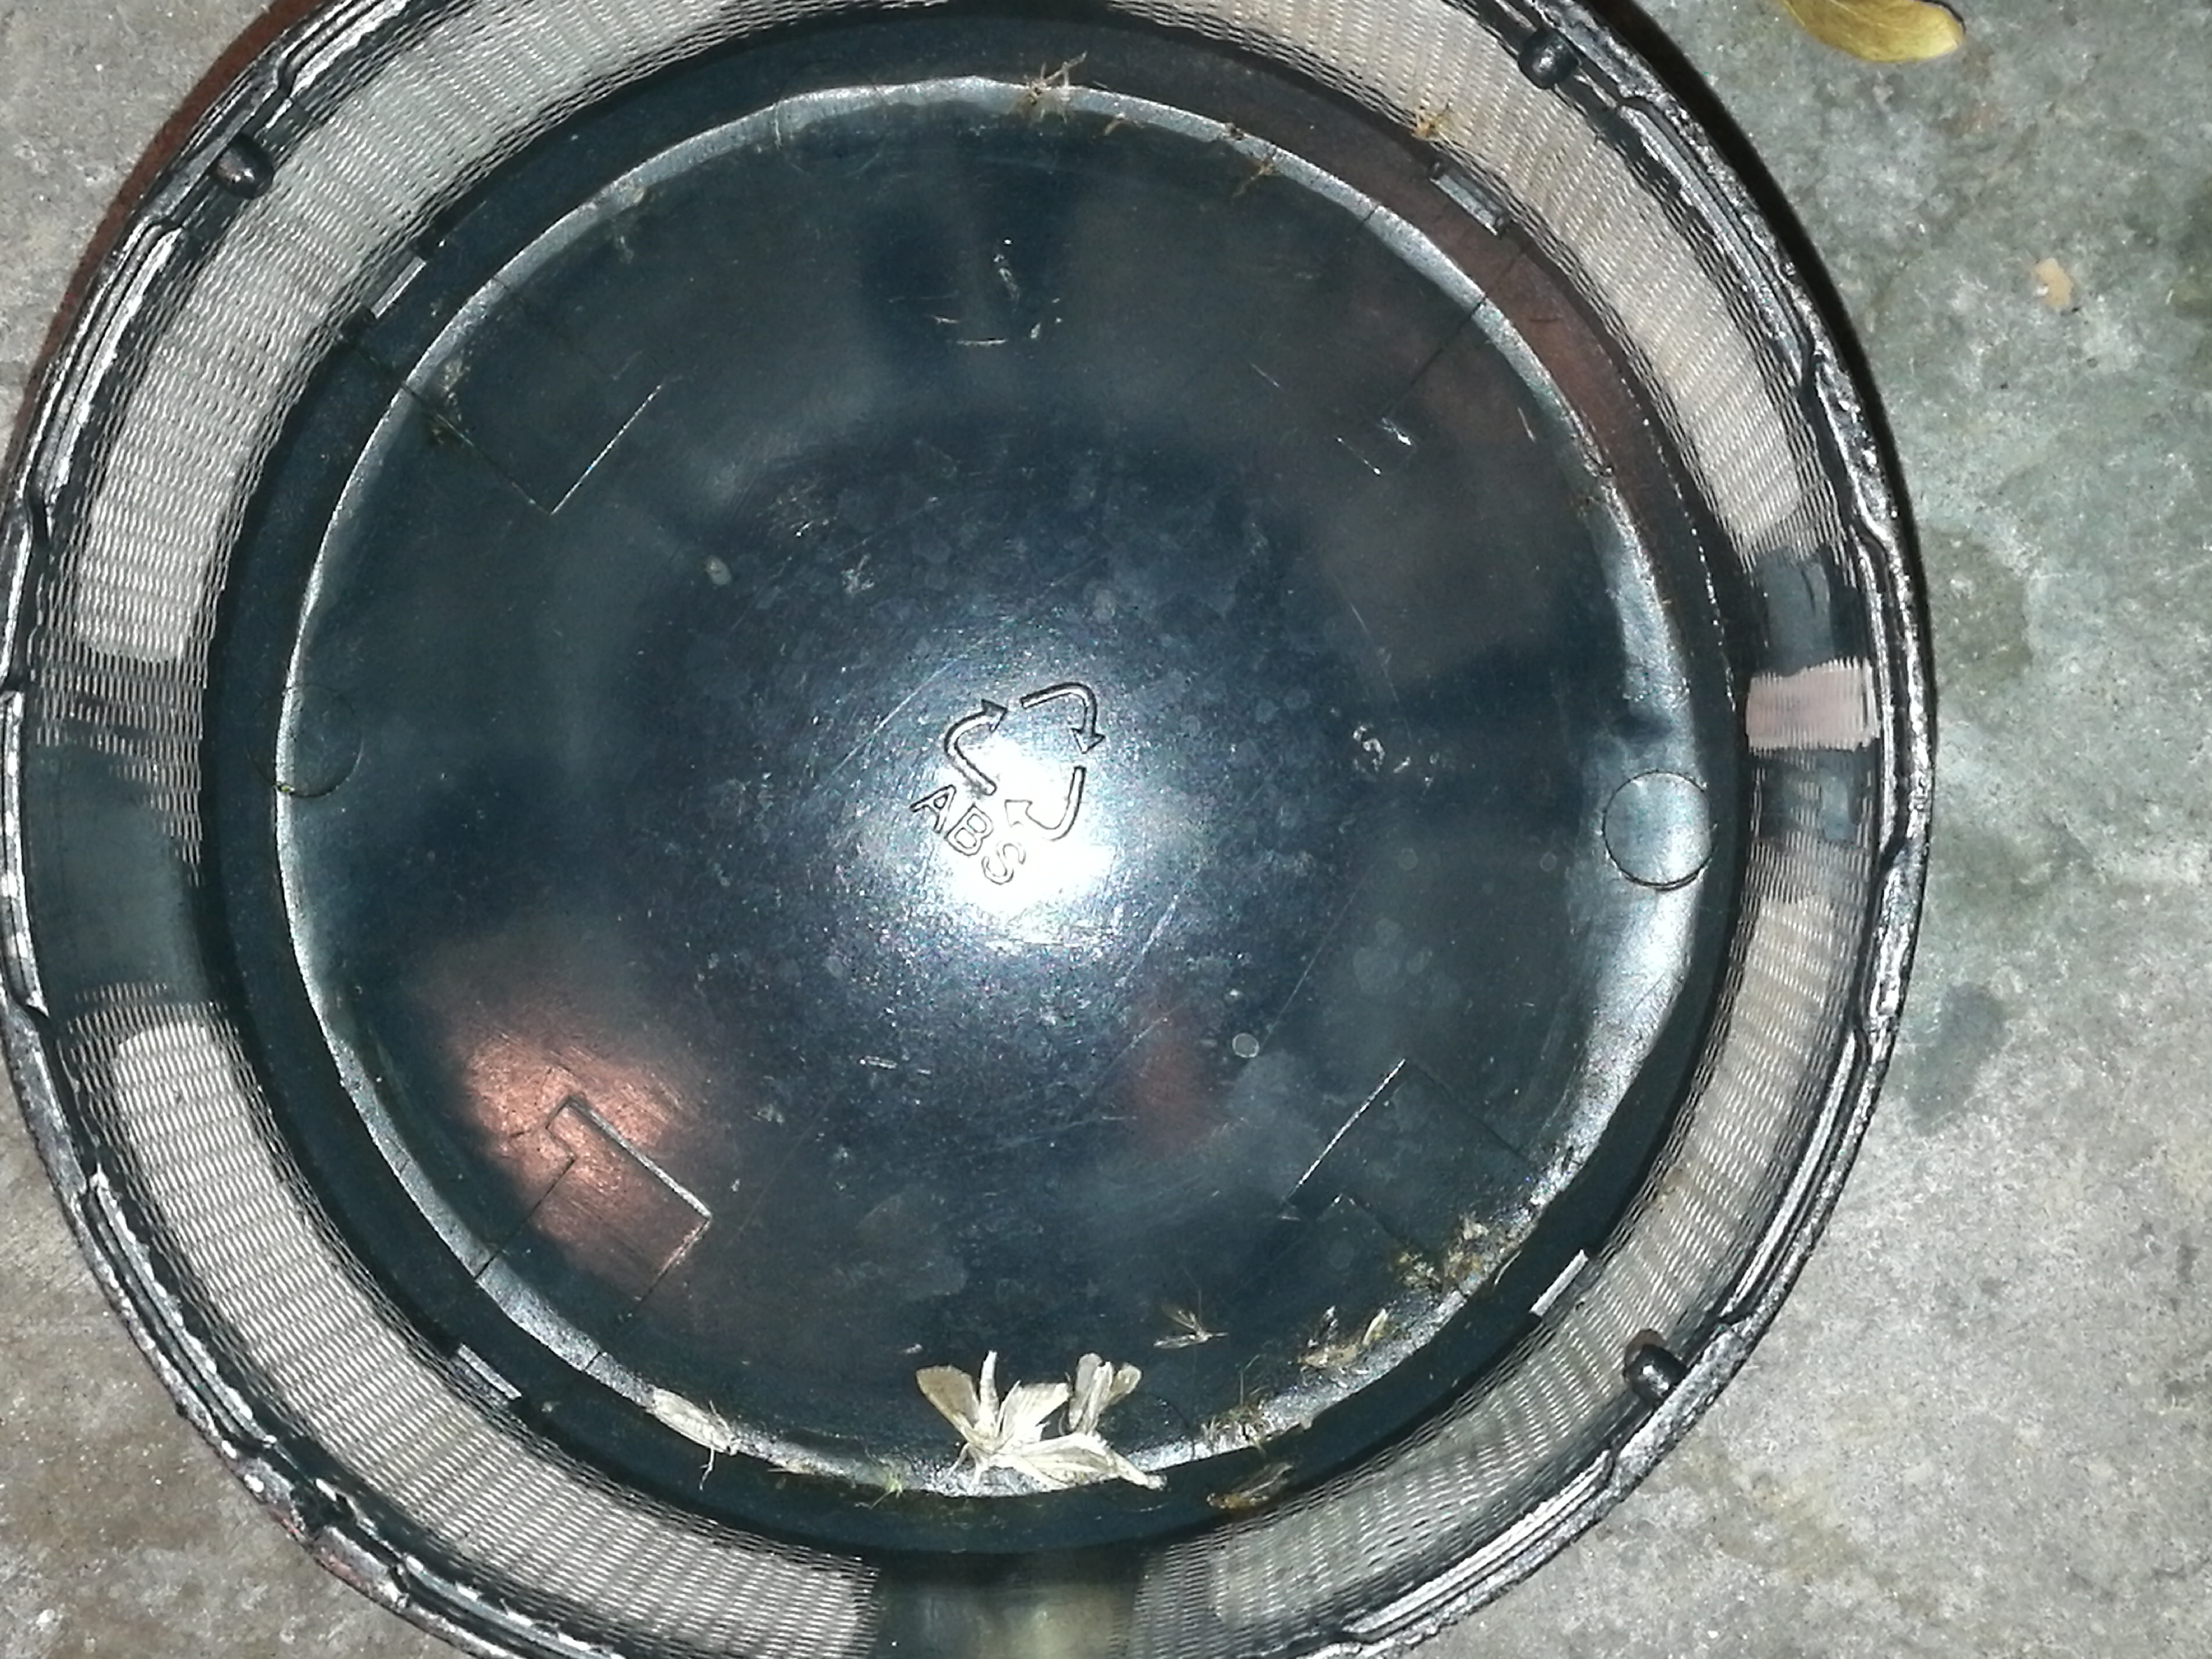mosquito: (648, 1384, 738, 1459), (1207, 1464, 1291, 1509), (1298, 1345, 1355, 1364)
moth: (920, 1351, 1069, 1469), (1073, 1356, 1139, 1432)
